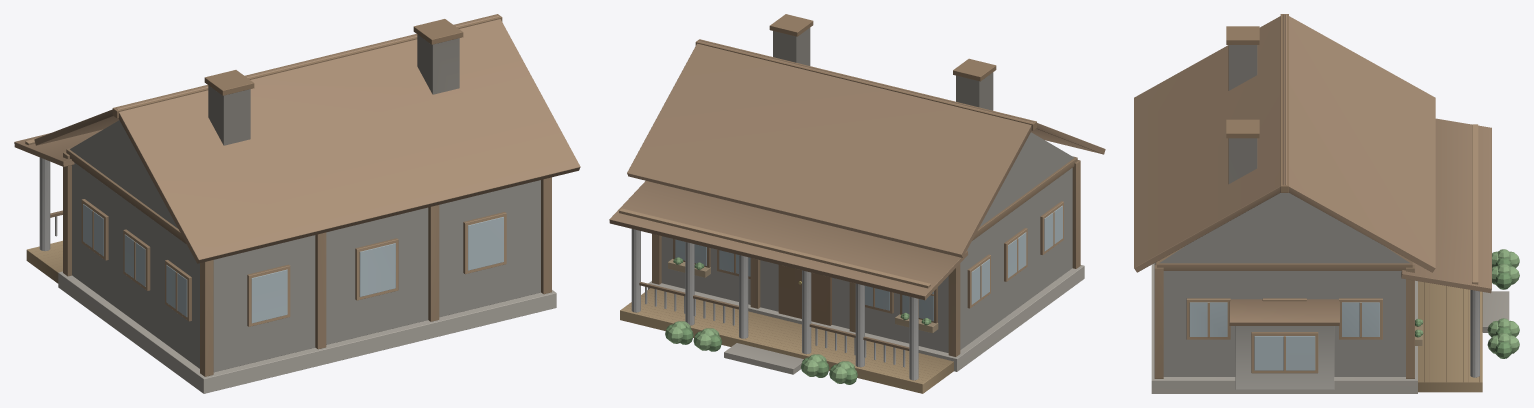
File: home_manor__brown.glb
3 renders of one model, left to right at view 1: azimuth 30°, elevation 25°; view 2: azimuth 150°, elevation 25°; view 3: azimuth 270°, elevation 25°, orthographic. The views are drawn at different scales.
Size of the model in its own units: 11.05 by 6.87 by 10.14.
